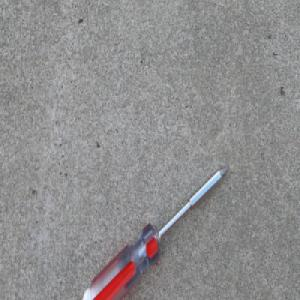Screwdriver: (79, 161, 231, 300)
